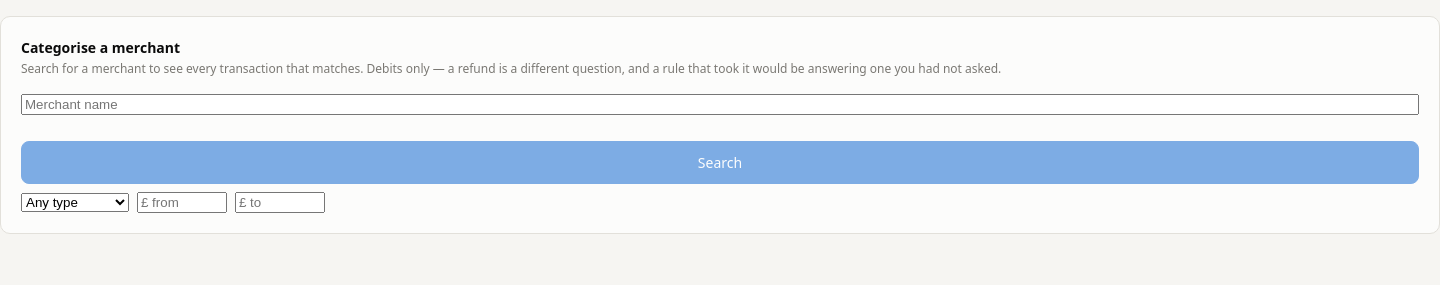
Test: narrowing by type and amount › says what it searched for when nothing matches: {"max":"100"}
In the field named "Largest amount": (280, 202) [235, 192, 325, 213], type "100"
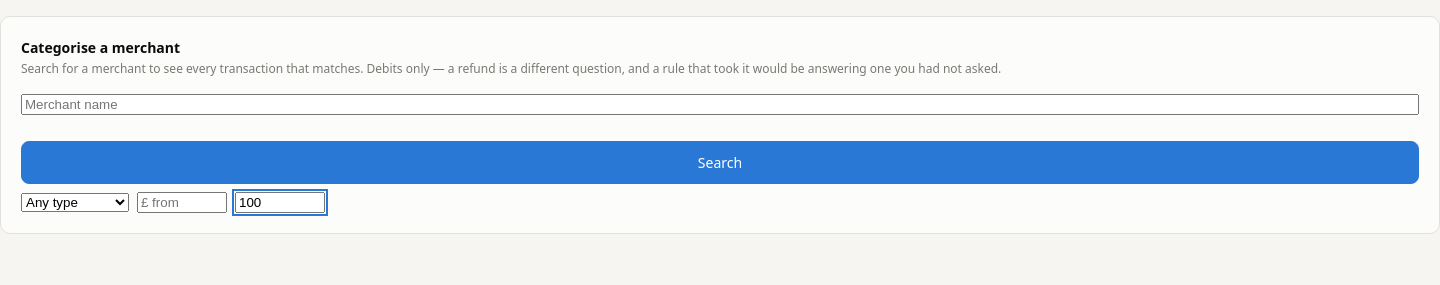
Click the button "Search": (720, 162) [21, 141, 1419, 184]
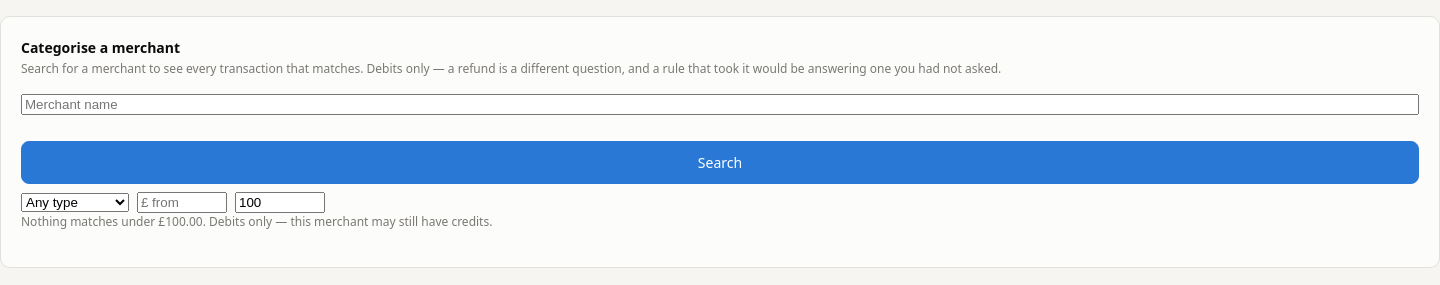
Expected: the text "under £100.00" is shown, [21, 213, 206, 230]
